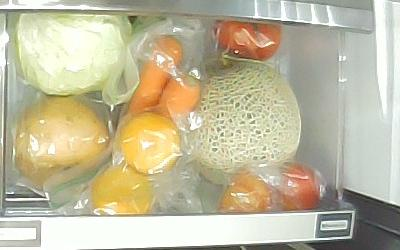cabbage: (12, 11, 132, 96)
carrot_vinyl: (125, 35, 183, 117), (155, 73, 201, 116)
melon: (190, 62, 302, 184)
pear_vinyl: (12, 97, 111, 189)
prune_vinyl: (217, 167, 273, 212), (275, 163, 322, 211)
tangerine_vinyl: (118, 112, 181, 175), (92, 168, 152, 216)
tomato_vinyl: (214, 18, 281, 60)
